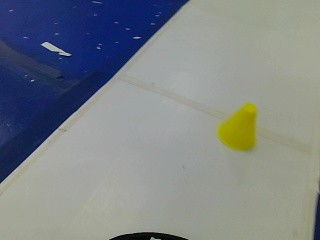cone: (215, 99, 259, 152)
